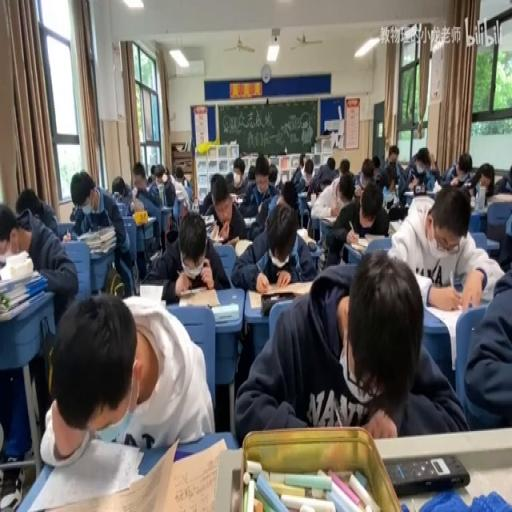calculator: (22, 435, 177, 512), (157, 436, 227, 510), (384, 452, 468, 494), (249, 283, 311, 310), (178, 286, 219, 308), (411, 270, 432, 307), (210, 302, 238, 322), (77, 225, 114, 240), (138, 282, 164, 302), (308, 239, 324, 266), (234, 236, 252, 256), (134, 214, 157, 228), (296, 224, 312, 244), (348, 238, 368, 253), (90, 246, 114, 257), (364, 233, 388, 243), (204, 218, 216, 234), (318, 214, 336, 224), (242, 215, 256, 226), (388, 220, 398, 234), (383, 192, 395, 202), (149, 248, 159, 260), (228, 193, 241, 202), (306, 196, 315, 206), (298, 191, 308, 199)
paper: (234, 248, 459, 438), (42, 287, 208, 461), (388, 182, 502, 312), (1, 196, 80, 332), (68, 169, 131, 297), (144, 206, 227, 302), (229, 199, 316, 289), (326, 179, 390, 249), (400, 145, 438, 201), (488, 186, 512, 270), (132, 164, 166, 218), (440, 149, 475, 192), (291, 155, 316, 212), (378, 145, 404, 193), (321, 226, 349, 268), (14, 188, 42, 222), (226, 156, 248, 195), (489, 163, 512, 197), (0, 204, 18, 247), (278, 179, 298, 211), (200, 183, 216, 215), (338, 176, 354, 206), (110, 176, 126, 198), (360, 164, 374, 186), (388, 205, 406, 222), (172, 165, 186, 186), (113, 198, 128, 216), (416, 158, 429, 175), (267, 163, 277, 185), (429, 155, 439, 174), (338, 158, 350, 173), (480, 171, 491, 186), (372, 155, 381, 171), (210, 174, 222, 186), (246, 164, 255, 180), (303, 168, 312, 182), (326, 155, 334, 169), (150, 162, 156, 179), (298, 154, 304, 170), (374, 169, 380, 181), (509, 165, 512, 185), (322, 128, 330, 134)
